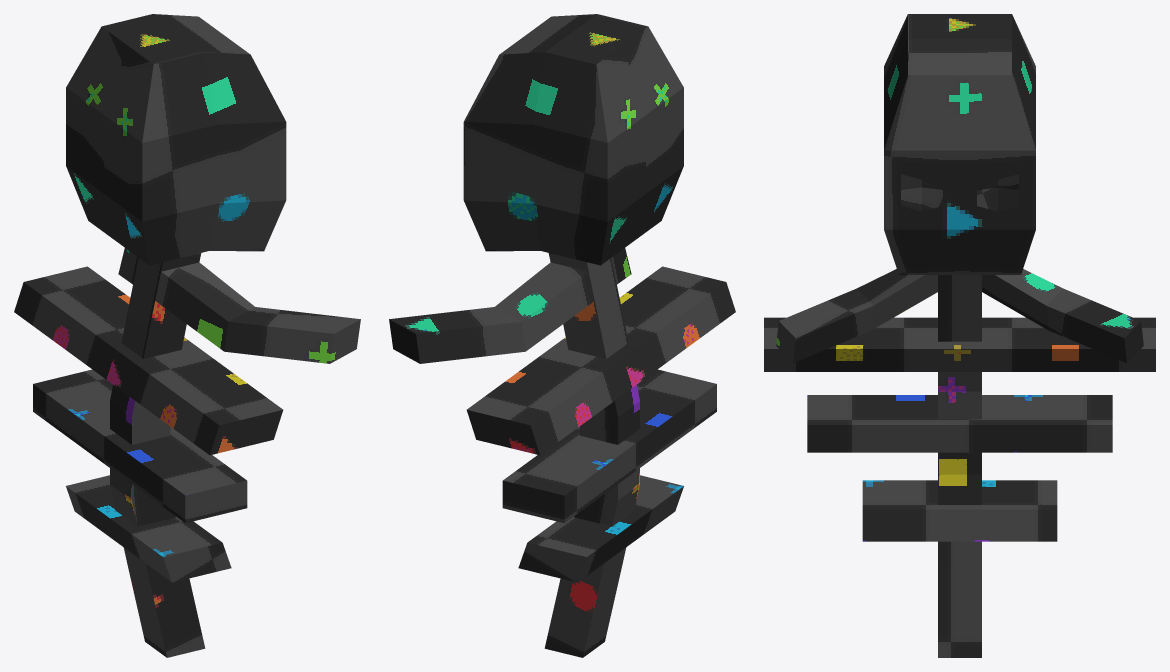
The model's file is enemy_placeholder.gltf.
3 views of the same model, side by side, from view 1: azimuth 30°, elevation 25°; view 2: azimuth 150°, elevation 25°; view 3: azimuth 270°, elevation 25° (orthographic).
Visible parts, largest first — view 1: PlaceholderEnemy; view 2: PlaceholderEnemy; view 3: PlaceholderEnemy.
Boxes of the visible parts, box(x1,y1,x2,y2) form: PlaceholderEnemy: box(14, 14, 360, 657); PlaceholderEnemy: box(389, 14, 735, 657); PlaceholderEnemy: box(764, 14, 1155, 657).
Size of the model in its own units: 0.4679 by 1.56 by 0.9085.
1 material, 1 textured.
